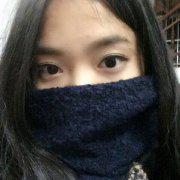OK: (24, 35, 150, 161)
